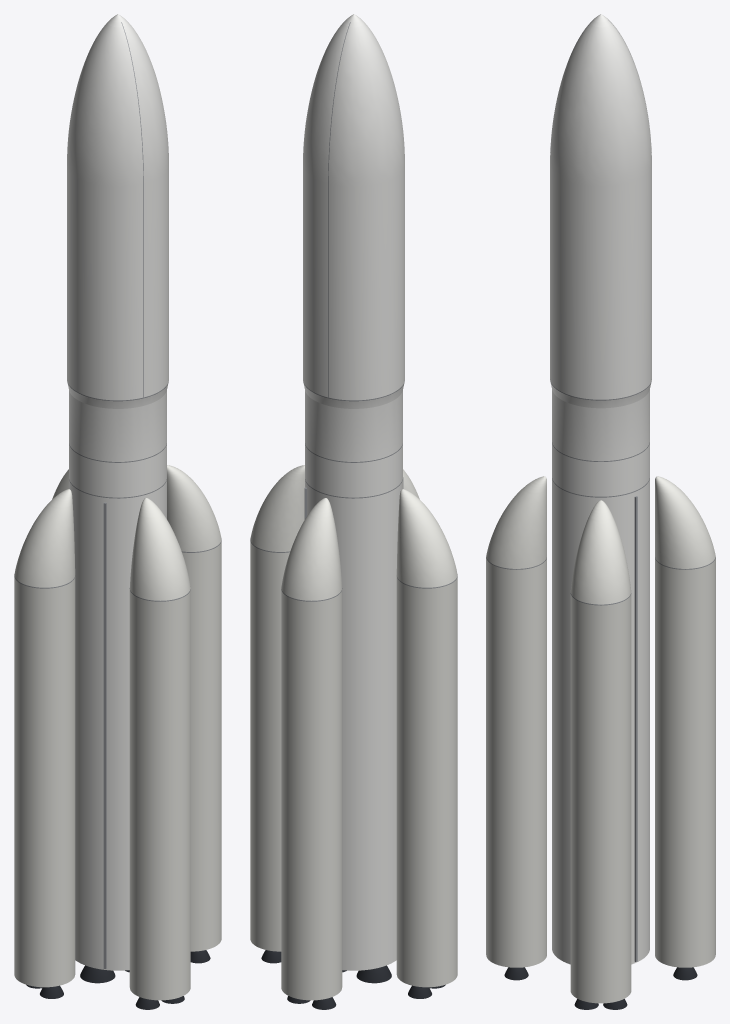
The picture shows the model from 3 angles, left to right: view 1: azimuth 30°, elevation 25°; view 2: azimuth 150°, elevation 25°; view 3: azimuth 270°, elevation 25°; orthographic projection.
Parts seen in each view (by area): view 1: lm5b; view 2: lm5b; view 3: lm5b.
Boxes of the visible parts, left/top/right/bottom form: lm5b: left=14, top=14, right=221, bottom=1009; lm5b: left=250, top=14, right=457, bottom=1009; lm5b: left=486, top=14, right=715, bottom=1009.
Size of the model in its own units: 11.7 by 53.7 by 11.7.
1 material, 1 textured.
